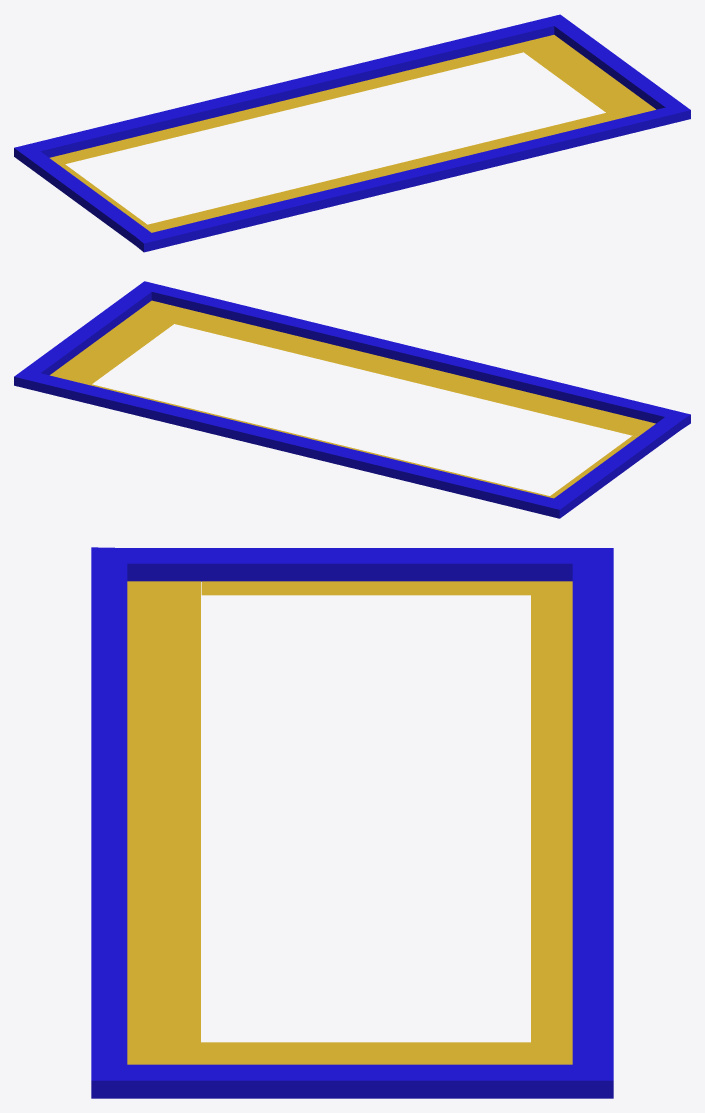
File: Pista1.dae
The picture shows the model from 3 angles, top to bottom: view 1: azimuth 30°, elevation 25°; view 2: azimuth 150°, elevation 25°; view 3: azimuth 270°, elevation 25°; orthographic projection. The views are drawn at different scales.
Visible parts, largest first — view 1: Cube, Plane; view 2: Cube, Plane; view 3: Cube, Plane.
Boxes of the visible parts, x1,y1,x2,y2 form: Cube: (14,14,690,252); Plane: (50,35,655,232); Cube: (14,281,690,518); Plane: (50,300,655,498); Cube: (91,547,613,1098); Plane: (127,581,572,1064).
Size of the model in its own units: 33.85 by 14 by 0.5294.
